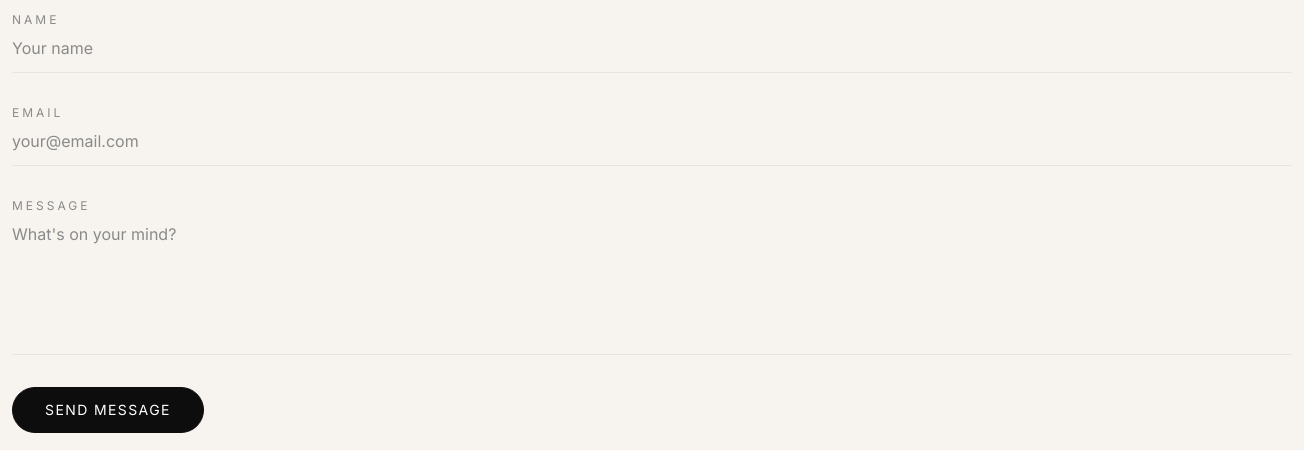
Test: ContactForm › shows success message on successful submission
The image size is (1304, 450).
Type "Mo" into the field labelled "Name".
click(652, 54); type("Mo")  # box [12,36,1292,73]
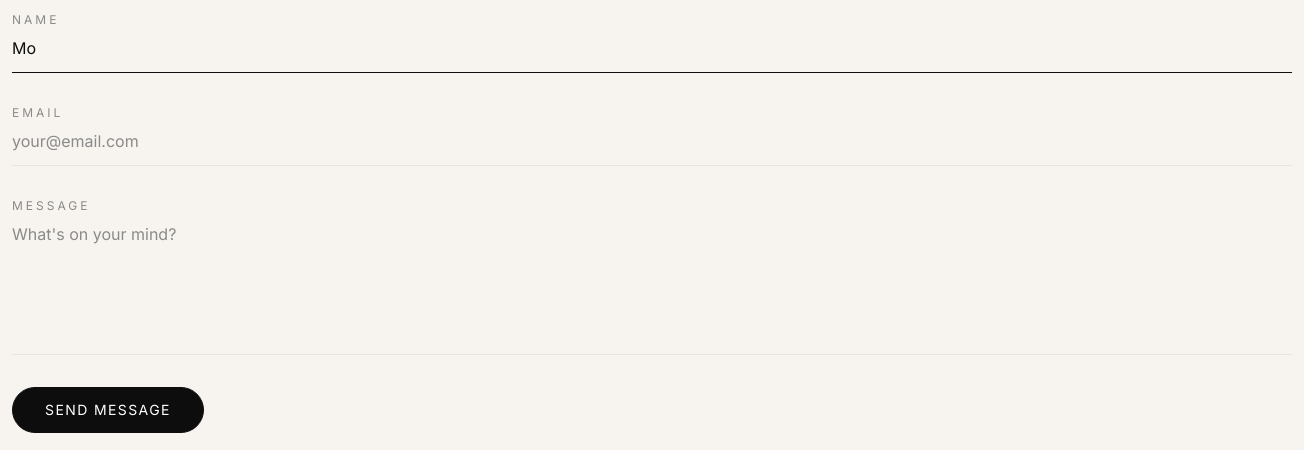
Type "mo@example.com" into the field labelled "Email".
click(652, 148); type("mo@example.com")  # box [12,129,1292,166]
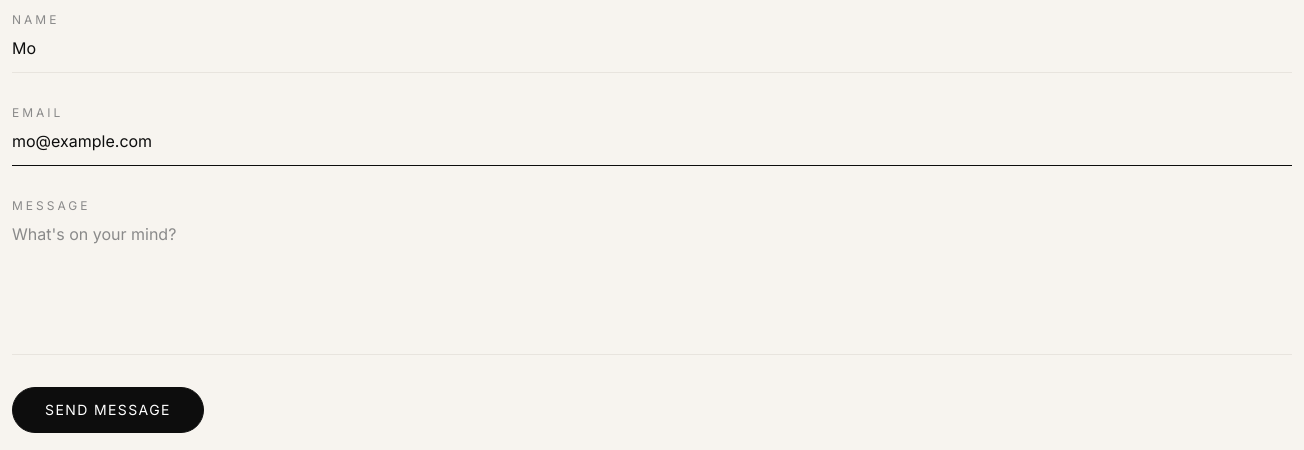
Type "Hello" into the text box labelled "Message".
click(652, 288); type("Hello")  # box [12,222,1292,355]
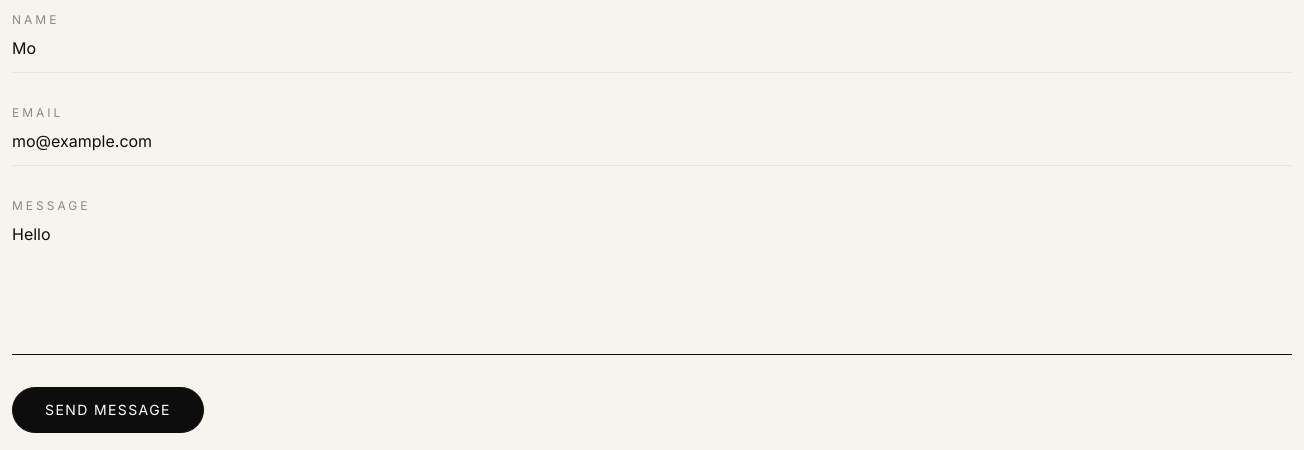
Click the button "Send Message".
click(108, 410)  # box [12,387,204,433]
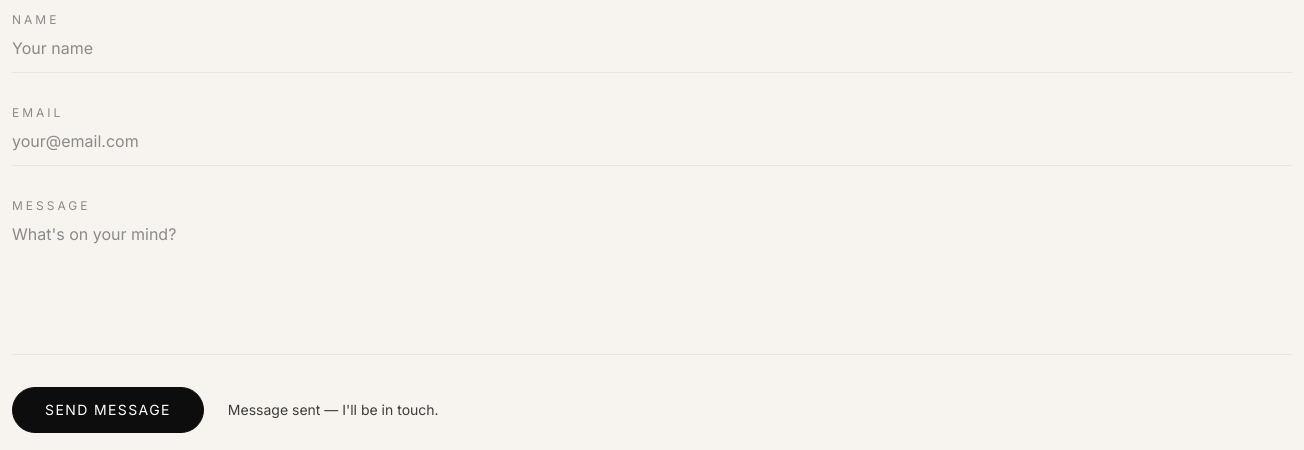
Result: the text "Message sent — I'll be in touch." is shown at [228,400,439,420]
